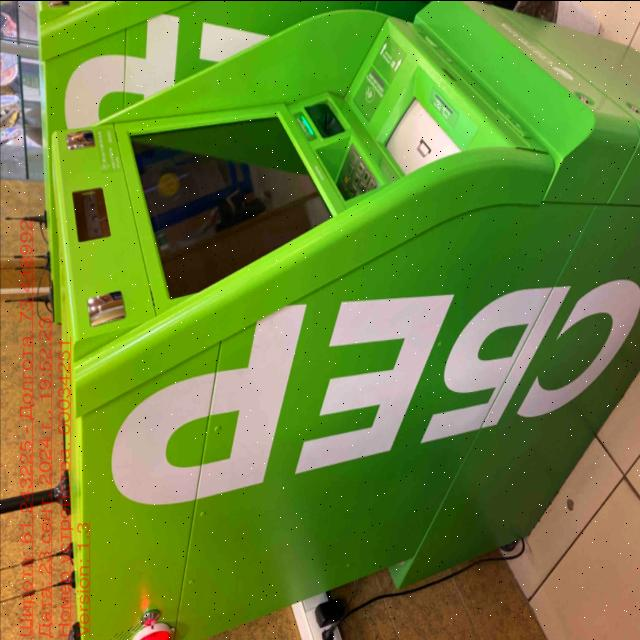bank: (50, 0, 640, 640), (34, 0, 541, 325)
